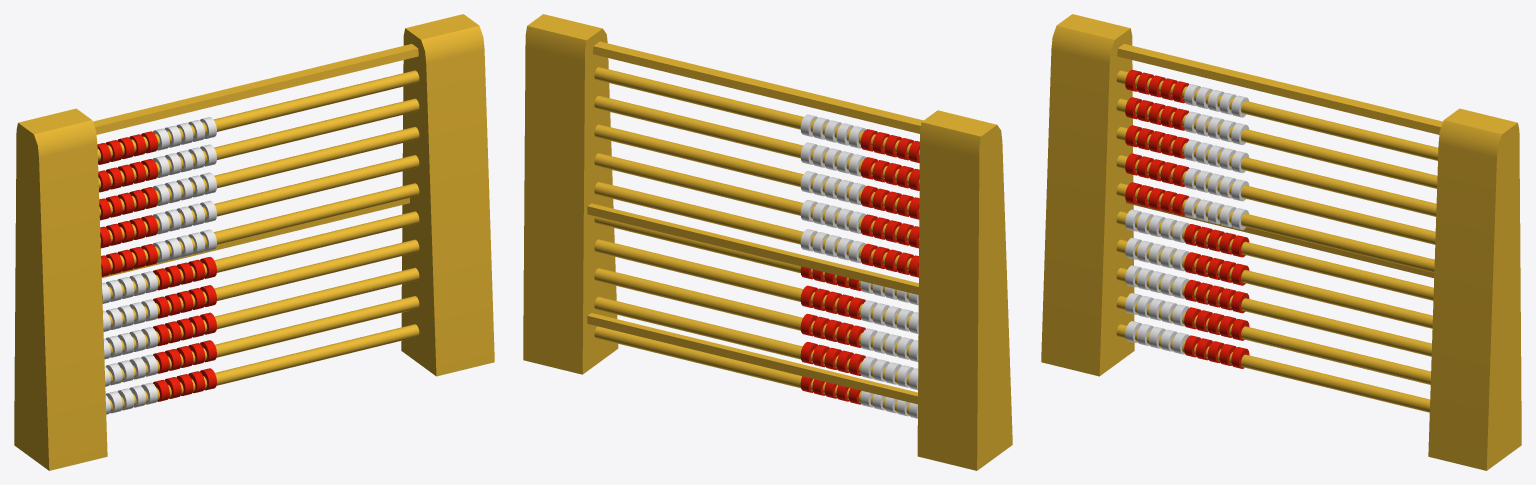
Rendered from RekenDIng.fbx.
The picture shows the model from 3 angles, left to right: view 1: azimuth 30°, elevation 25°; view 2: azimuth 150°, elevation 25°; view 3: azimuth 330°, elevation 25°; orthographic projection.
Parts seen in each view (by area): view 1: RekenDing; view 2: RekenDing; view 3: RekenDing.
Boxes of the visible parts, x1,y1,x2,y2 form: RekenDing: [14, 14, 494, 470]; RekenDing: [523, 14, 1012, 470]; RekenDing: [1041, 14, 1521, 470].
Size of the model in its own units: 0.8598 by 0.6 by 0.1173.
